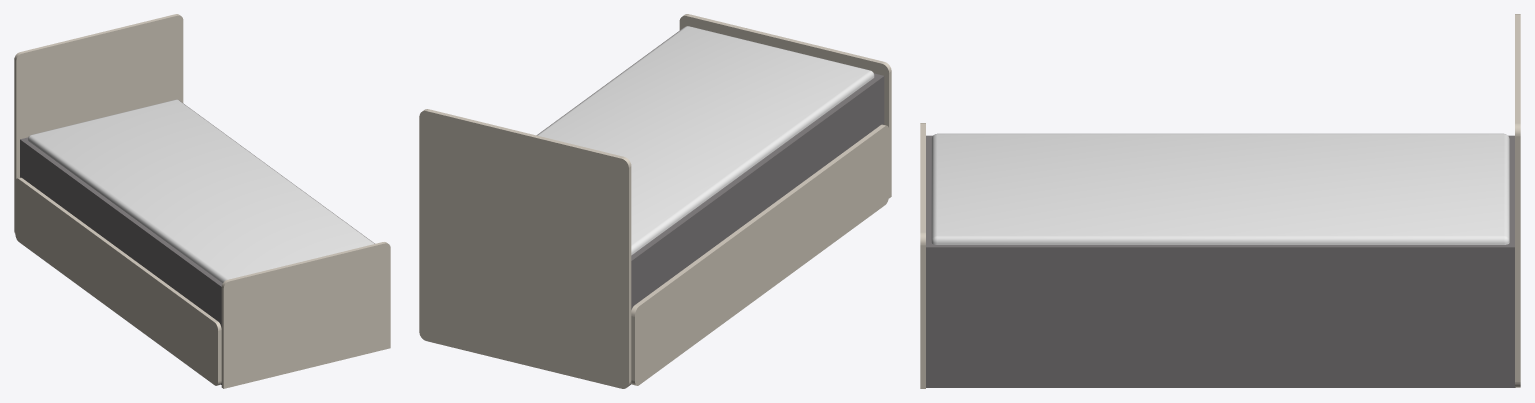
File: 2pir_lozko_1_os.obj
3 views of the same model, side by side, from view 1: azimuth 30°, elevation 25°; view 2: azimuth 150°, elevation 25°; view 3: azimuth 270°, elevation 25° (orthographic). The views are drawn at different scales.
Parts seen in each view (by area): view 1: ChamferBox01, Rectangle16, Rectangle15, Rectangle17, Box02; view 2: Rectangle15, ChamferBox01, Rectangle17, Box02, Rectangle16; view 3: Box02, ChamferBox01, Rectangle15, Rectangle16.
Boxes of the visible parts, left/top/right/bottom form: ChamferBox01: left=28, top=99, right=374, bottom=282; Rectangle16: left=221, top=242, right=390, bottom=388; Rectangle15: left=14, top=14, right=183, bottom=233; Rectangle17: left=15, top=177, right=221, bottom=385; Box02: left=20, top=100, right=374, bottom=384; Rectangle15: left=419, top=109, right=631, bottom=388; ChamferBox01: left=537, top=26, right=874, bottom=255; Rectangle17: left=631, top=124, right=889, bottom=385; Box02: left=536, top=27, right=884, bottom=384; Rectangle16: left=679, top=14, right=891, bottom=198; Box02: left=926, top=135, right=1515, bottom=387; ChamferBox01: left=931, top=133, right=1509, bottom=244; Rectangle15: left=1515, top=14, right=1520, bottom=387; Rectangle16: left=920, top=123, right=925, bottom=388.
Size of the model in its own units: 95.42 by 99.08 by 205.
